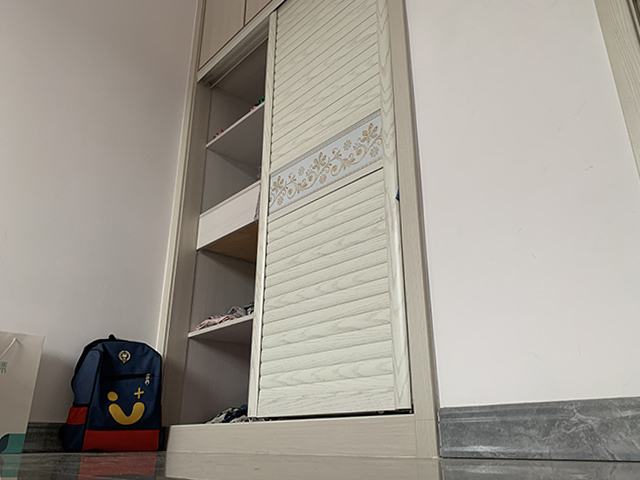cabinet: (154, 1, 443, 465)
